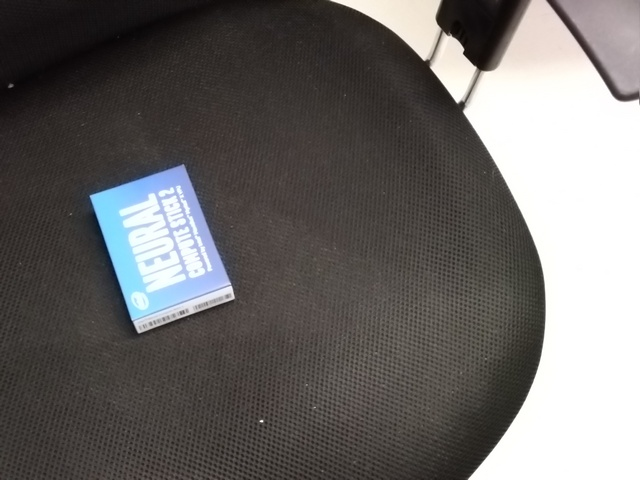box: (87, 162, 238, 337)
